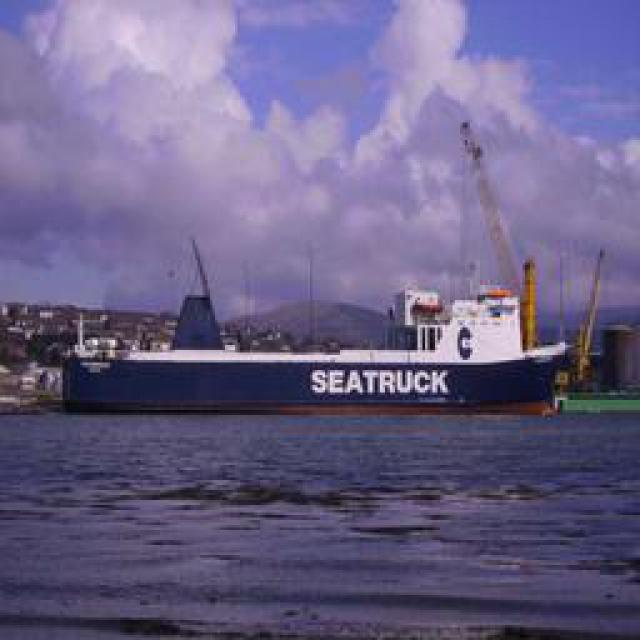Ship: (67, 276, 587, 416)
